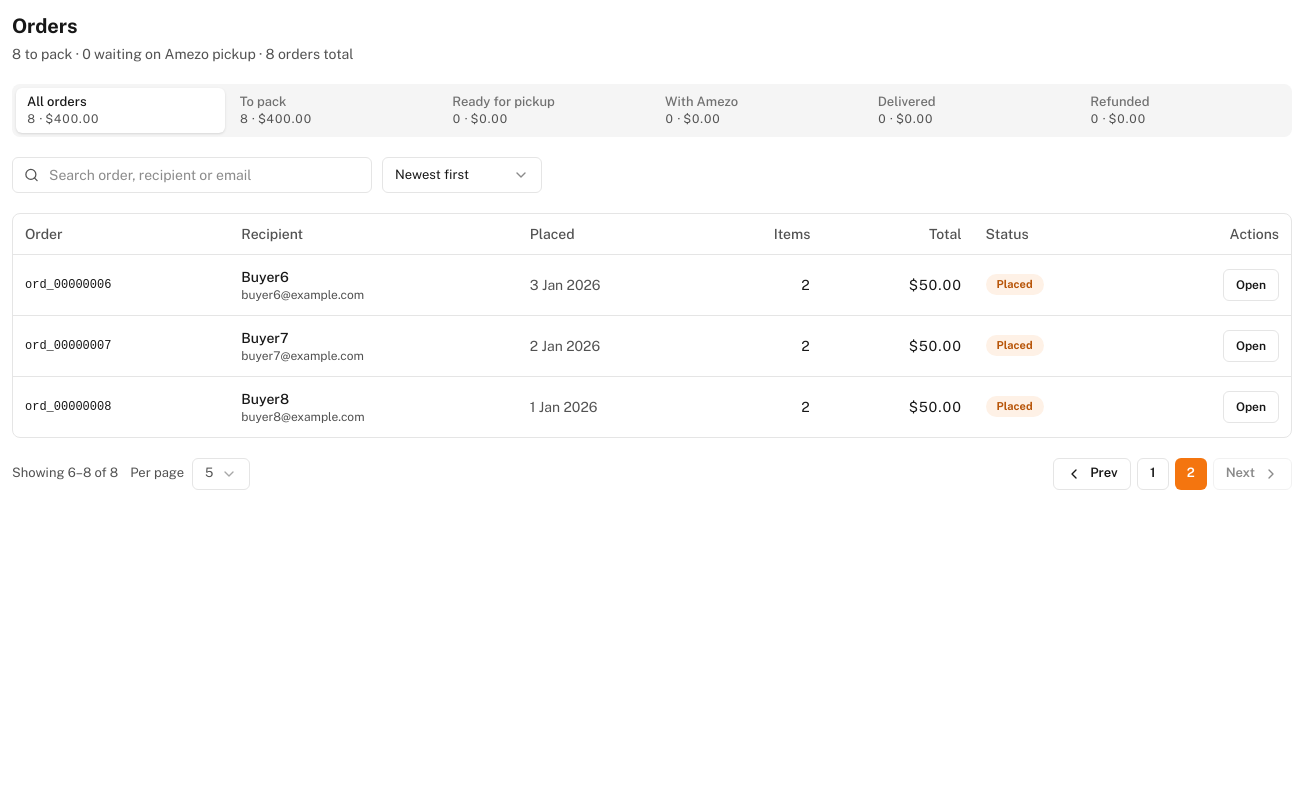
it: SellerOrders › starts the bucket again at the first page
This screenshot has width=1304, height=812.
Expected: the text "Buyer6" is shown, [241,268,289,284]
Click the tab "To pack 8 · $400.00". click: click(333, 110)
box: [229,88,437,133]
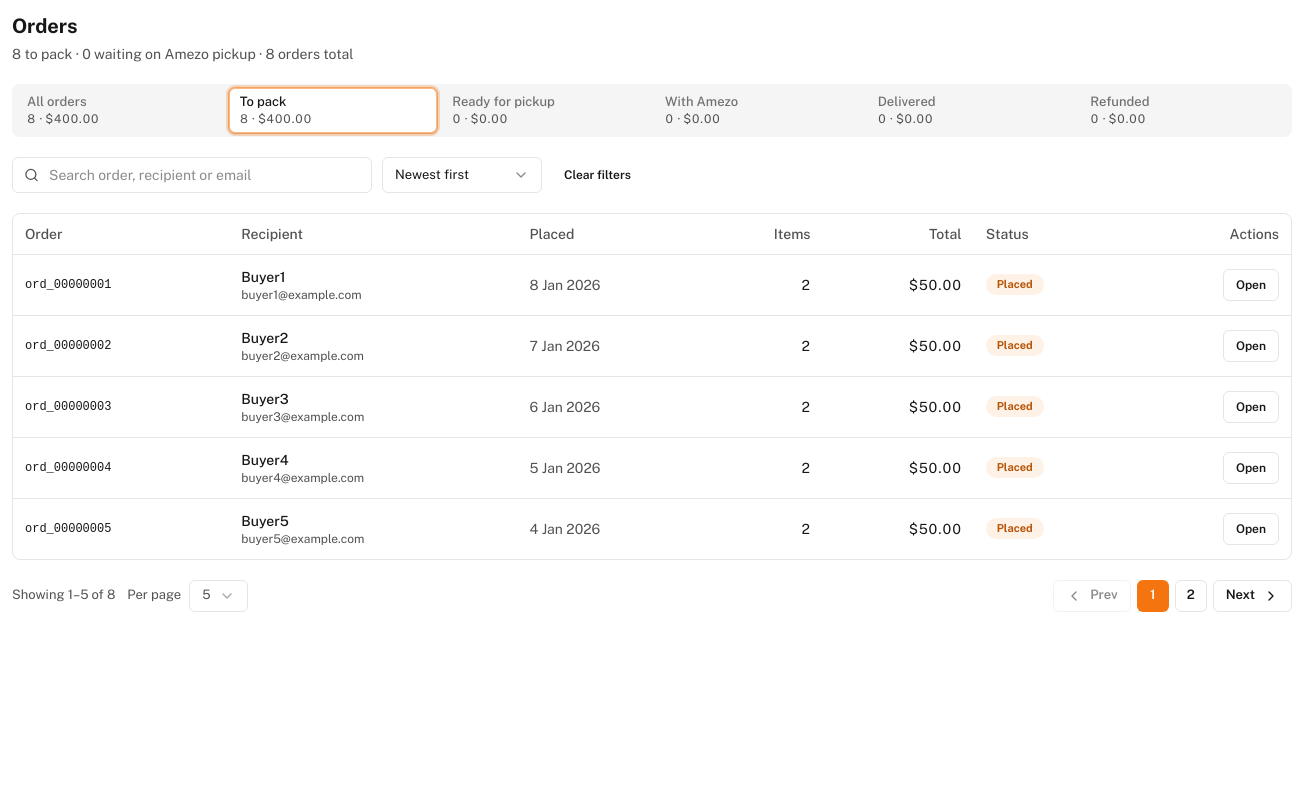
Expected: the text "Buyer1" is shown, [241,268,286,284]
